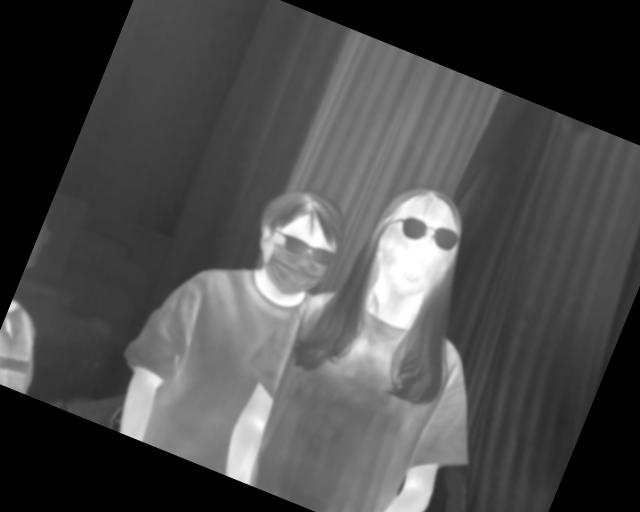face: (358, 176, 477, 310), (238, 176, 354, 307)
